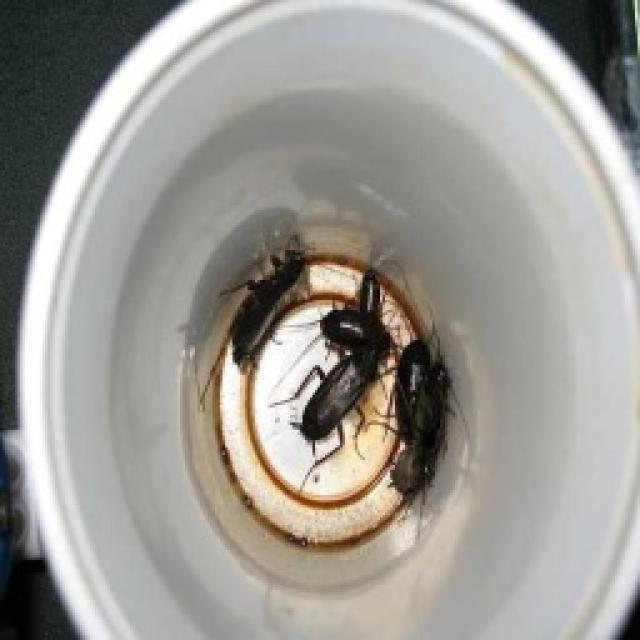cockroach: (220, 231, 322, 373), (278, 345, 409, 439), (381, 366, 462, 512), (307, 316, 418, 360), (338, 256, 398, 332), (392, 336, 430, 437)
